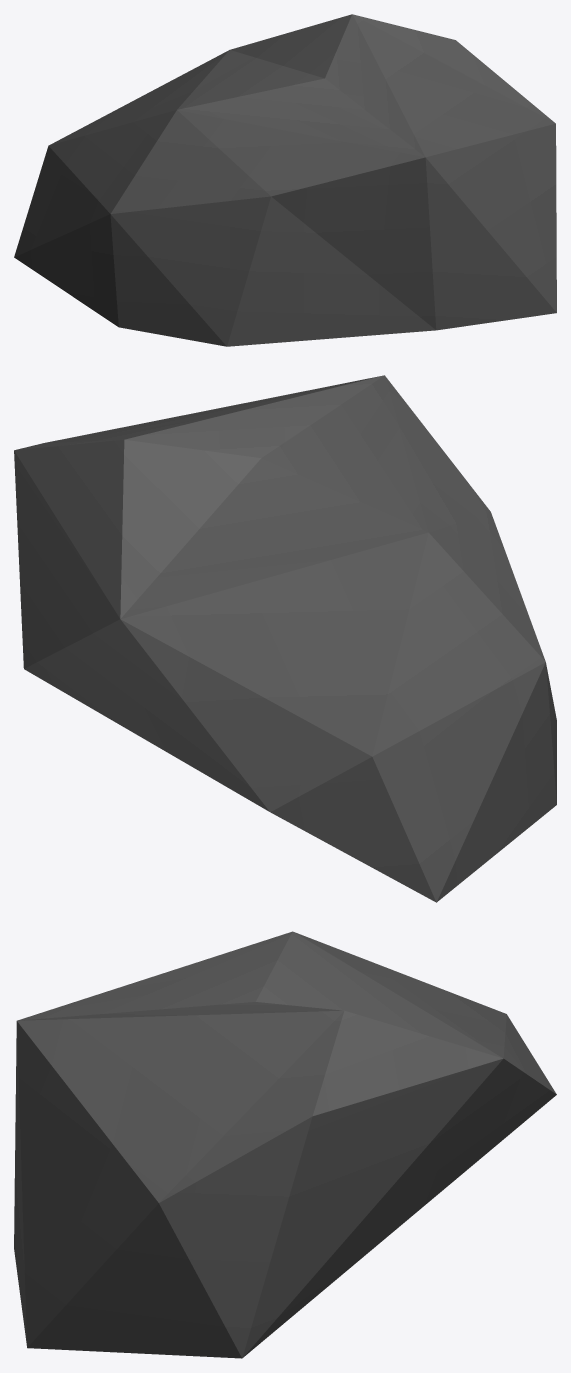
Rendered from pedrisco_a.glb.
3 renders of one model, top to bottom at view 1: azimuth 30°, elevation 25°; view 2: azimuth 150°, elevation 25°; view 3: azimuth 270°, elevation 25°, orthographic. The views are drawn at different scales.
Visible parts, largest first — view 1: RockSmallA; view 2: RockSmallA; view 3: RockSmallA.
Boxes of the visible parts, x1,y1,x2,y2 form: RockSmallA: [14, 14, 556, 346]; RockSmallA: [14, 375, 556, 902]; RockSmallA: [14, 931, 556, 1358].
Bounding box in the file's own units: 0.2676 × 0.1423 × 0.2414.
Materials: 1 (1 with a texture image).
